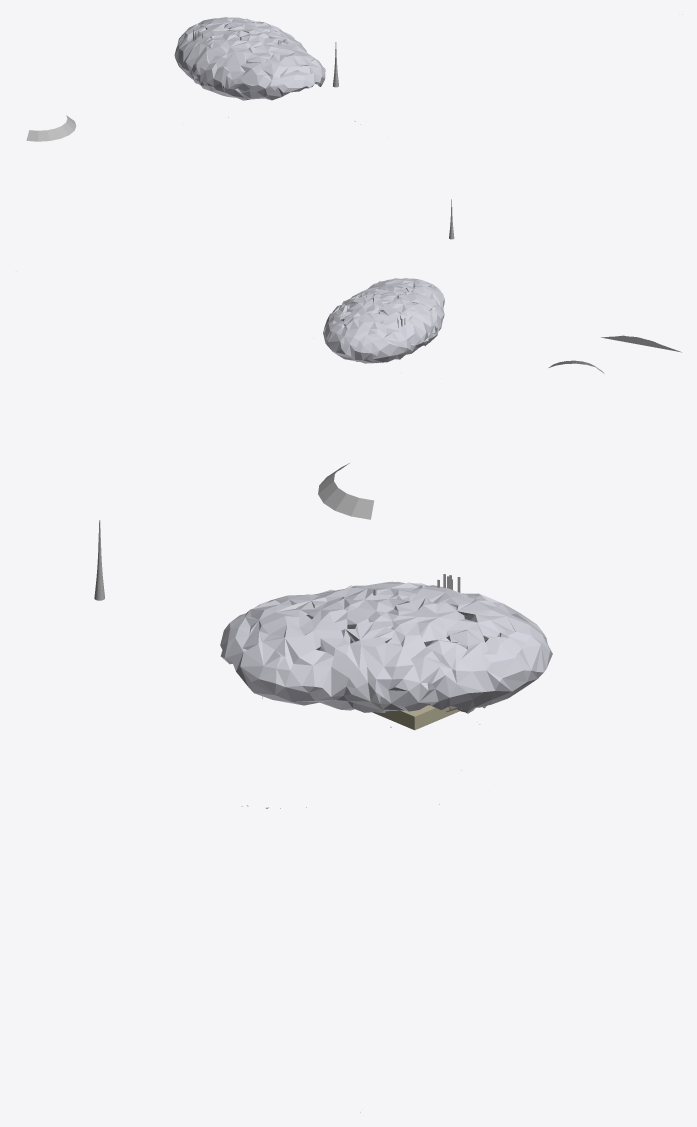
Rendered from BstBaked.glb.
3 renders of one model, top to bottom at view 1: azimuth 30°, elevation 25°; view 2: azimuth 150°, elevation 25°; view 3: azimuth 270°, elevation 25°, orthographic. The views are drawn at different scales.
Parts seen in each view (by area): view 1: BstBaked_cloud, BstBaked_CloudRing_03b; view 2: BstBaked_cloud, BstBaked_MountainCard_01; view 3: BstBaked_cloud, BstBaked_CloudRing_03b, BstBaked_terrain.
Boxes of the visible parts, box(x1,y1,x2,y2) form: BstBaked_cloud: box(174, 17, 325, 100); BstBaked_CloudRing_03b: box(26, 115, 76, 141); BstBaked_cloud: box(323, 278, 444, 363); BstBaked_MountainCard_01: box(601, 335, 681, 352); BstBaked_cloud: box(220, 581, 552, 712); BstBaked_CloudRing_03b: box(318, 463, 374, 519); BstBaked_terrain: box(372, 644, 486, 730).
Size of the model in its own units: 1935 by 339 by 675.
